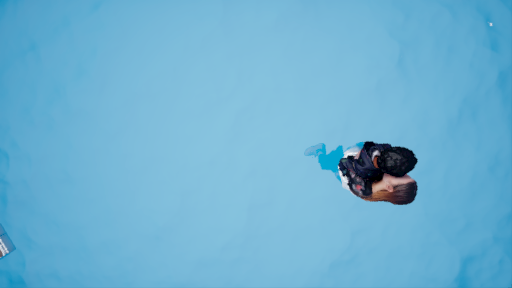person: (307, 138, 425, 208)
